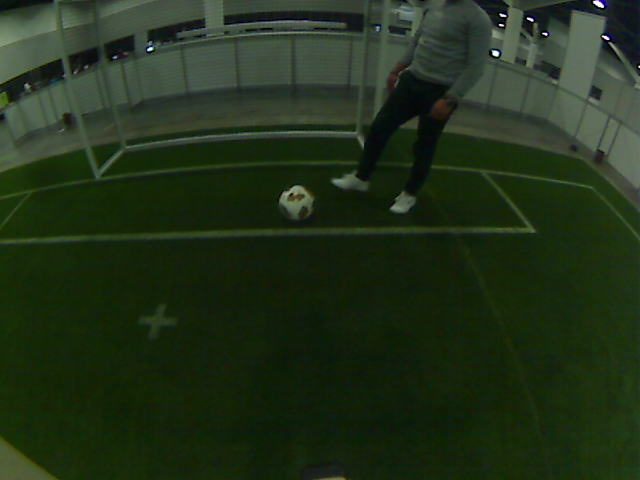ball: (274, 181, 314, 221)
goalpost: (79, 122, 115, 178)
